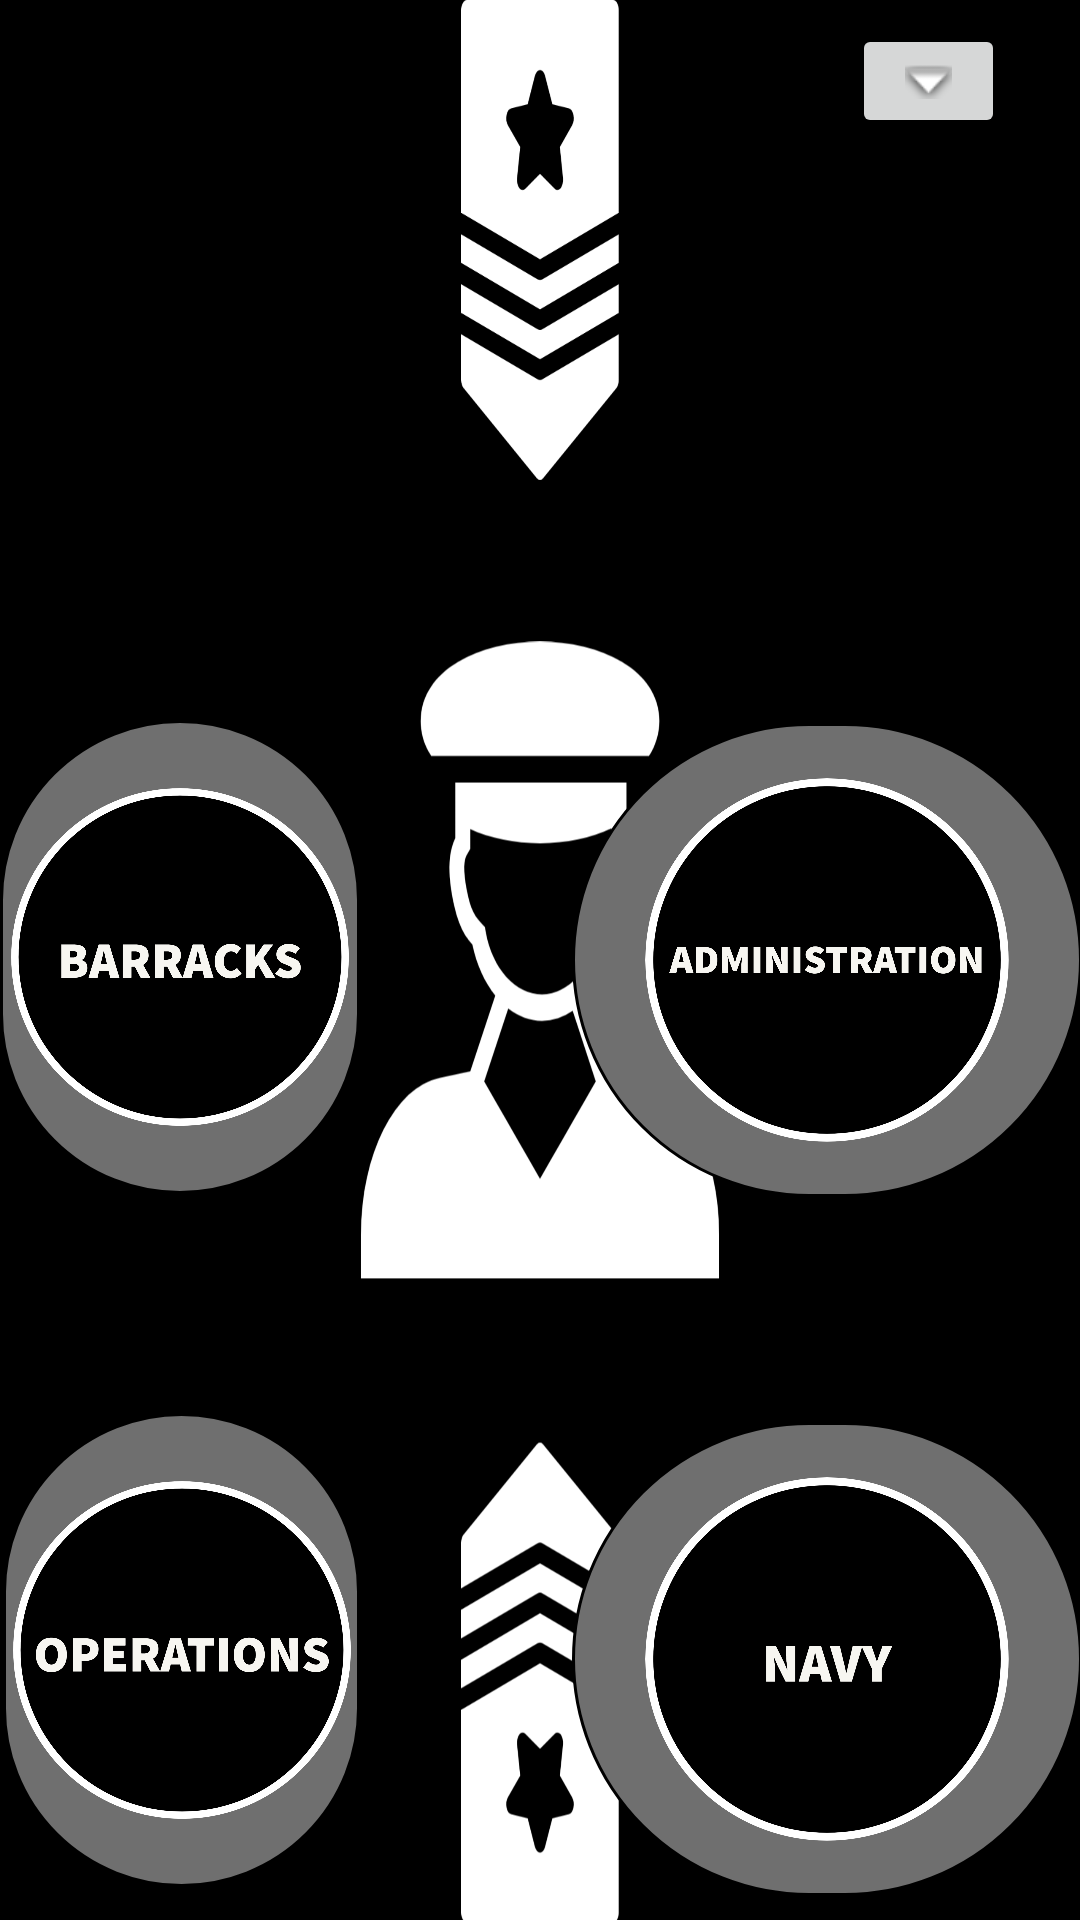

Locate icon controls on the screen. Image size 1080×1920, boxes as (x1, y1, x2, y2).
arrow down float: (864, 42, 993, 120)
